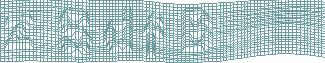B: (180, 5, 214, 53)
S: (59, 6, 93, 57)
d: (102, 5, 135, 54)
f: (141, 11, 166, 58)
z: (1, 14, 34, 51)
